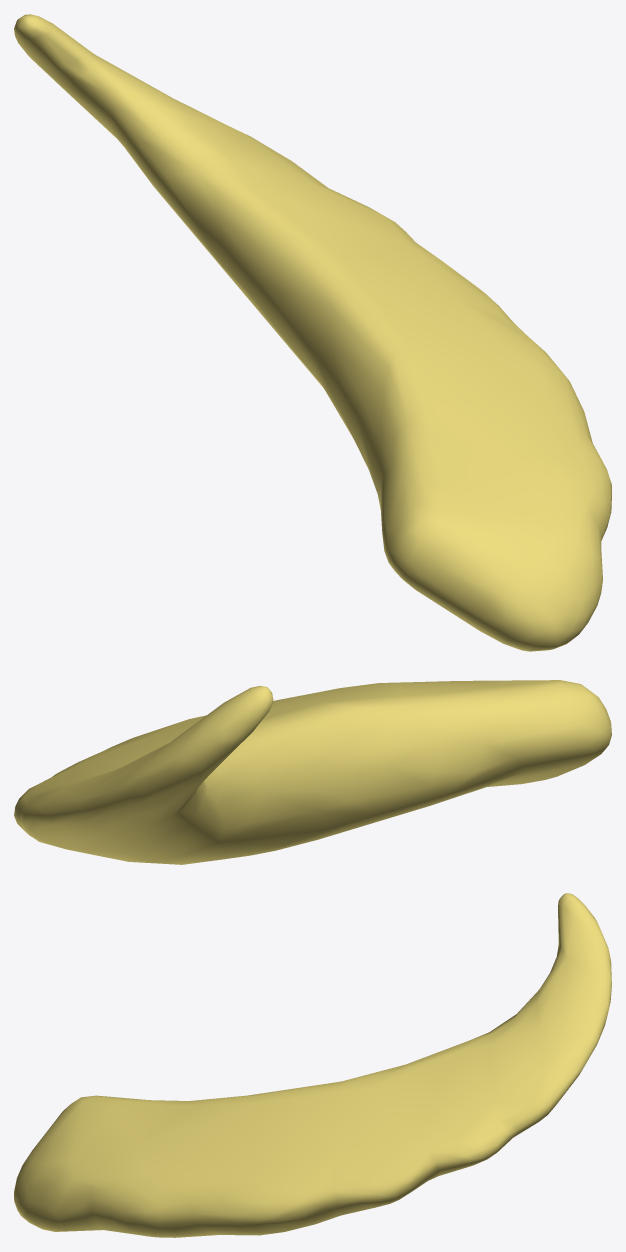
File: hippocampus-l.glb
The picture shows the model from 3 angles, top to bottom: view 1: azimuth 30°, elevation 25°; view 2: azimuth 150°, elevation 25°; view 3: azimuth 270°, elevation 25°; orthographic projection. The views are drawn at different scales.
Parts seen in each view (by area): view 1: Hippocampus.l; view 2: Hippocampus.l; view 3: Hippocampus.l.
Boxes of the visible parts, box(x1,y1,x2,y2) form: Hippocampus.l: box(14, 14, 611, 651); Hippocampus.l: box(14, 680, 611, 864); Hippocampus.l: box(14, 893, 611, 1237).
Bounding box in the file's own units: 0.0194 × 0.0213 × 0.0416.
